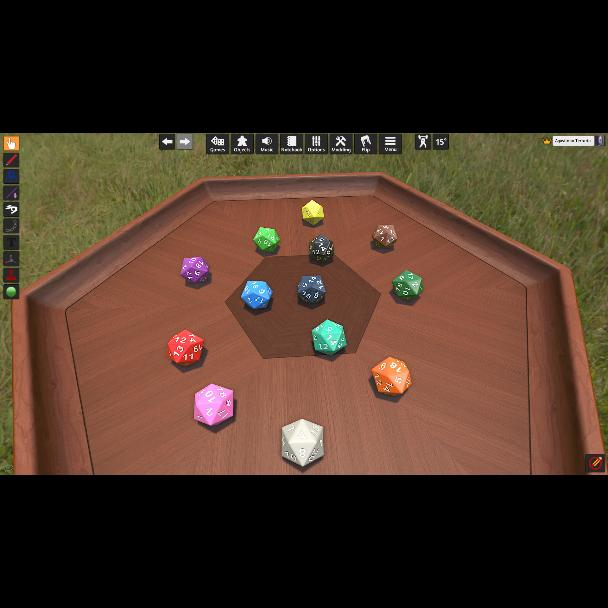d20: (280, 418, 324, 466), (193, 382, 233, 424), (371, 358, 410, 396), (168, 329, 204, 365), (312, 320, 348, 354), (242, 280, 274, 310), (392, 270, 422, 300), (295, 276, 324, 304), (182, 256, 210, 284), (308, 235, 334, 262), (254, 228, 280, 253), (372, 224, 396, 250), (301, 200, 323, 226)
